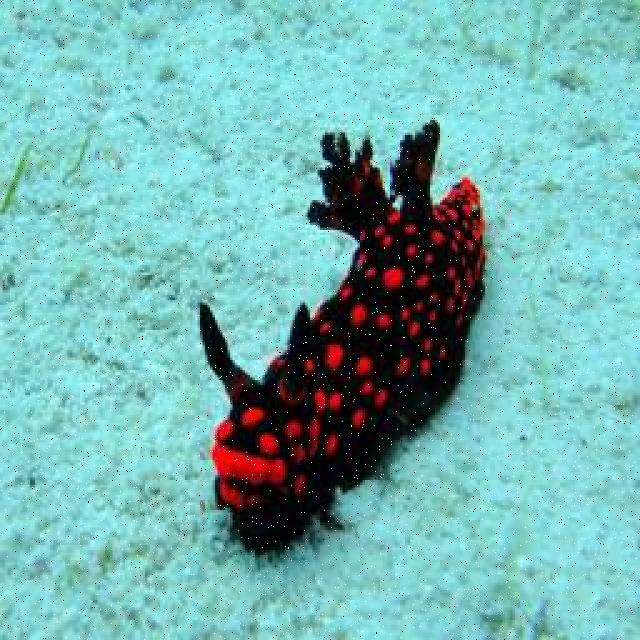reefs: (197, 118, 489, 574)
